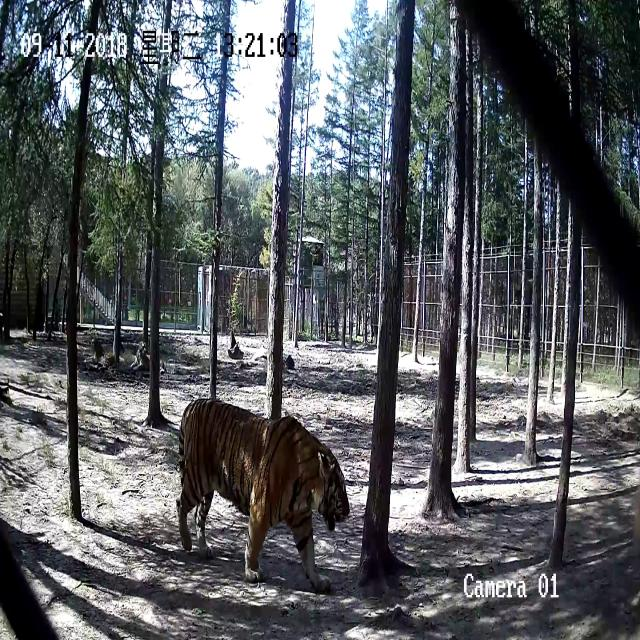Tiger: (161, 376, 360, 603)
